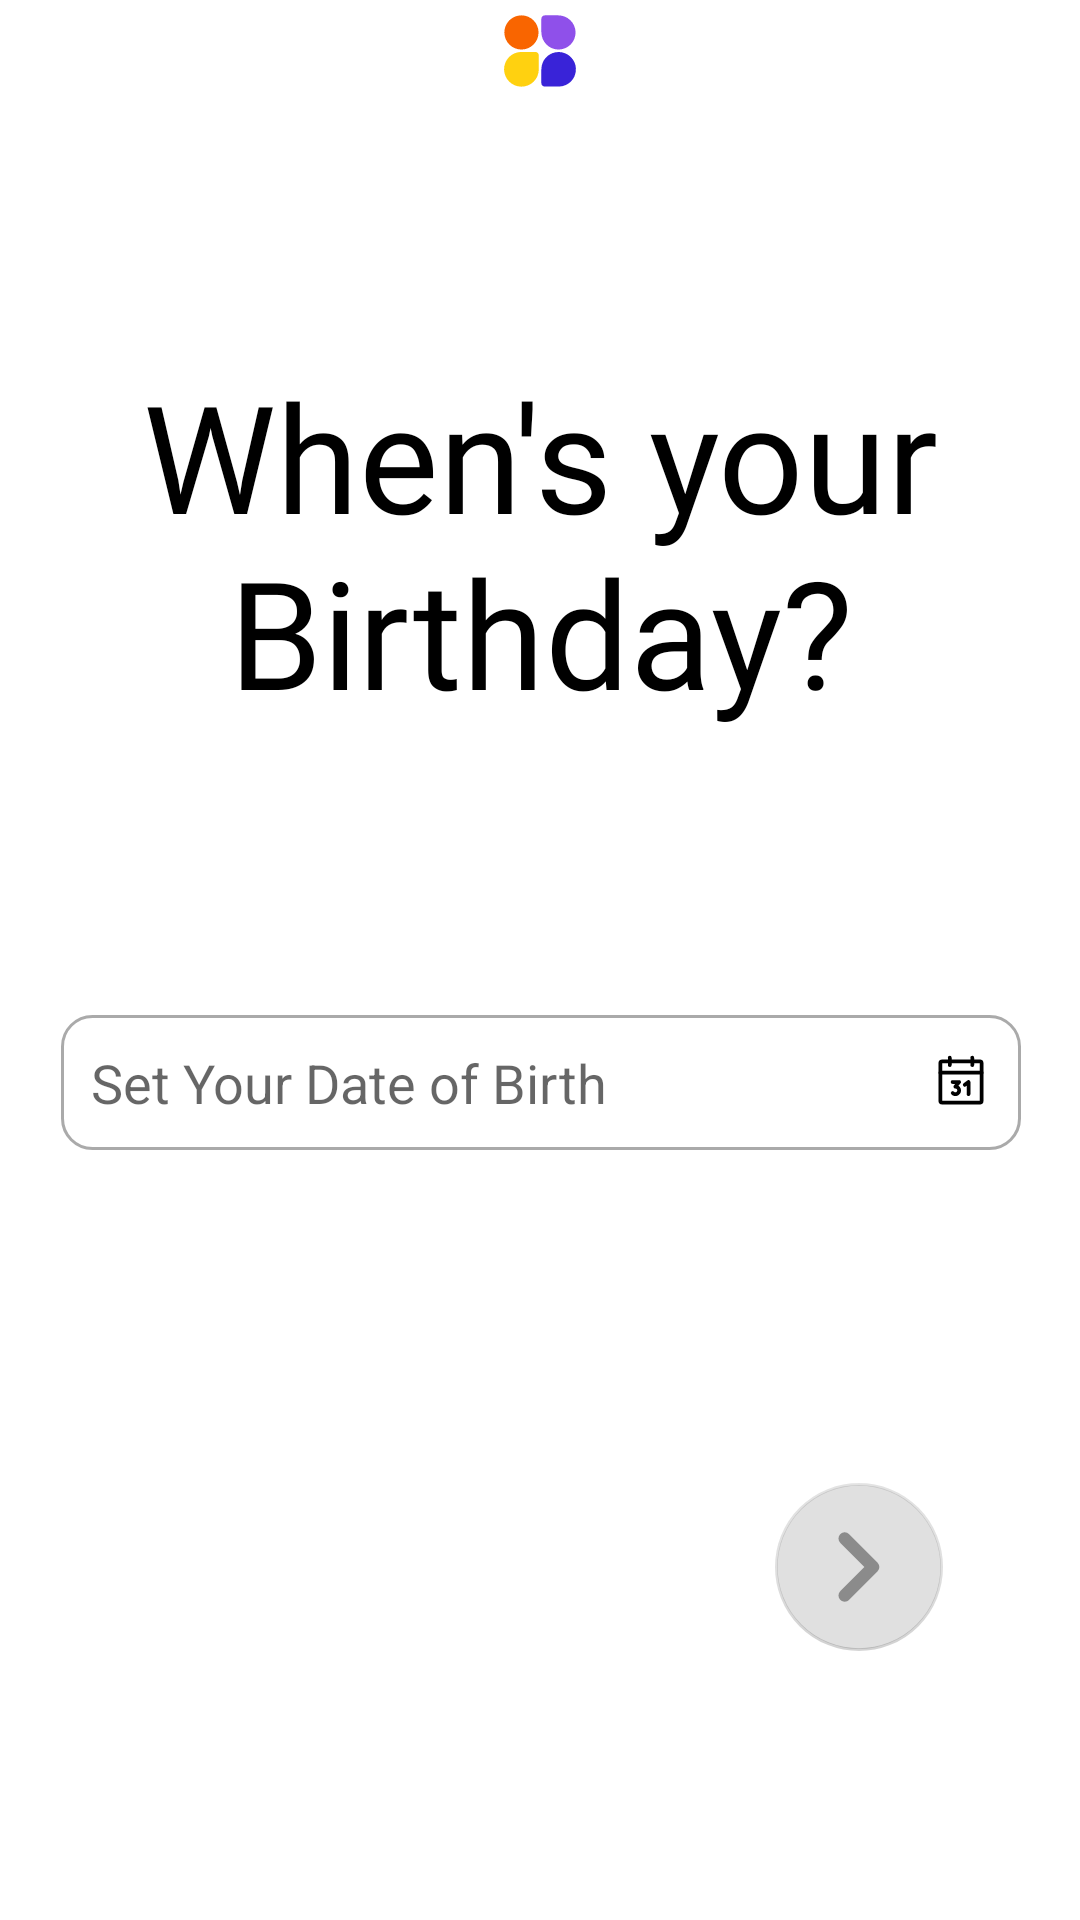

Point at icon controls on the screen. Image size 1080 × 1920, points as point (x, y).
Next Activity move: point (859, 1567)
